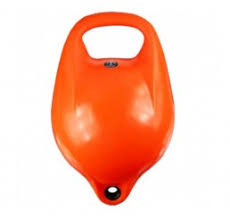buoy: (51, 58, 177, 171)
